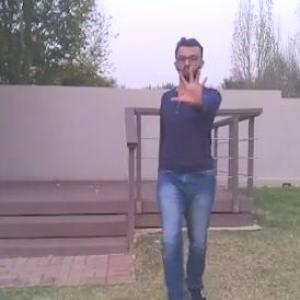follow_hand: (170, 63, 210, 105)
